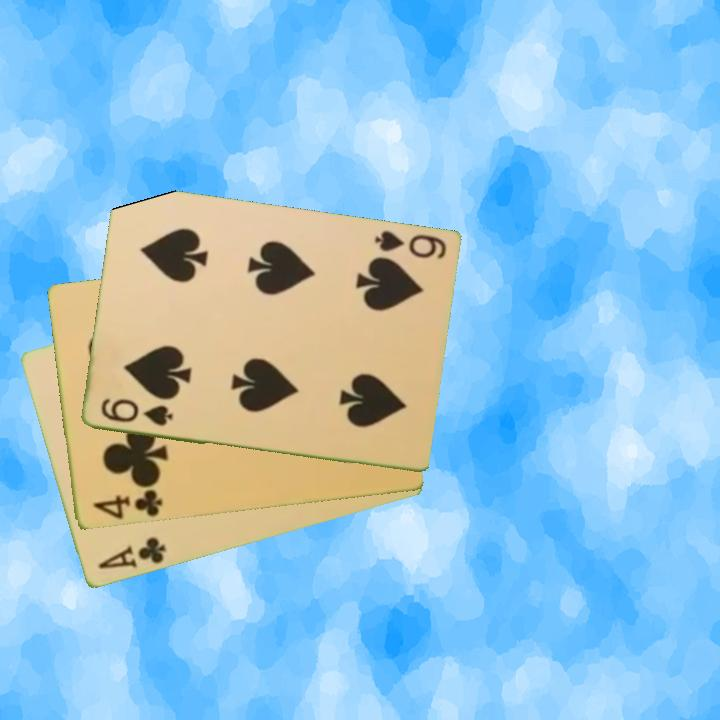4c: (89, 483, 165, 523)
6s: (97, 395, 176, 430), (370, 227, 449, 262)
Ac: (95, 534, 169, 573)
